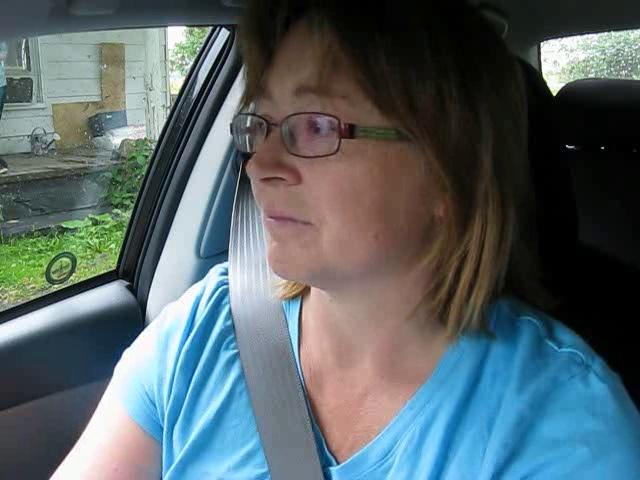no_yawn: (246, 195, 324, 246)
open_eyeL: (241, 104, 280, 149)
open_eyeR: (285, 108, 354, 158)
